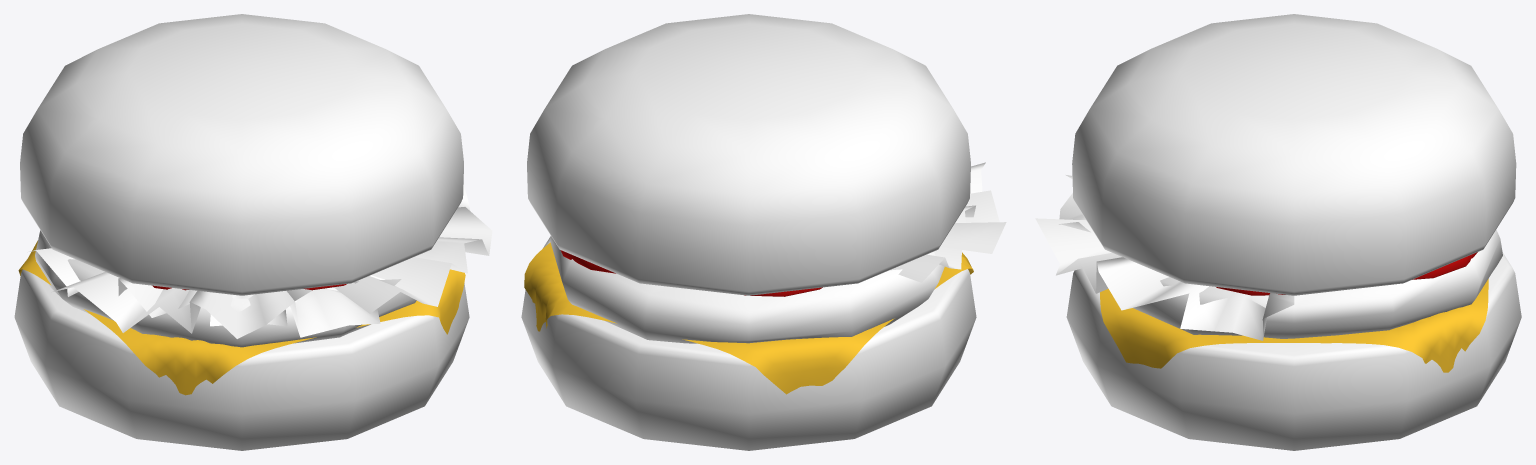
Rendered from hamburger.glb.
The picture shows the model from 3 angles, left to right: view 1: azimuth 30°, elevation 25°; view 2: azimuth 150°, elevation 25°; view 3: azimuth 270°, elevation 25°; orthographic projection.
Visible parts, largest first — view 1: top, buttom, veg.002, chesse, veg, meat, veg.001; view 2: top, buttom, meat, chesse, veg.002, veg.001, totato; view 3: top, buttom, meat, chesse, veg, totato, veg.002.
Boxes of the visible parts, <box> form: top: <box>20,14,463,295</box>; buttom: <box>14,269,469,450</box>; veg.002: <box>53,272,401,338</box>; chesse: <box>18,240,465,395</box>; veg: <box>334,184,492,313</box>; meat: <box>35,230,416,347</box>; veg.001: <box>29,248,312,326</box>; top: <box>527,14,970,295</box>; buttom: <box>521,236,976,450</box>; meat: <box>550,236,944,343</box>; chesse: <box>524,242,973,394</box>; veg.002: <box>940,162,1006,253</box>; veg.001: <box>890,205,975,282</box>; totato: <box>560,250,822,296</box>; top: <box>1072,14,1516,295</box>; buttom: <box>1066,252,1521,450</box>; meat: <box>1133,229,1502,338</box>; chesse: <box>1100,279,1488,372</box>; veg: <box>1035,218,1294,340</box>; totato: <box>1216,252,1477,295</box>; veg.002: <box>1059,175,1090,232</box>.
Bounding box in the file's own units: 2.23 × 1.51 × 2.2.
